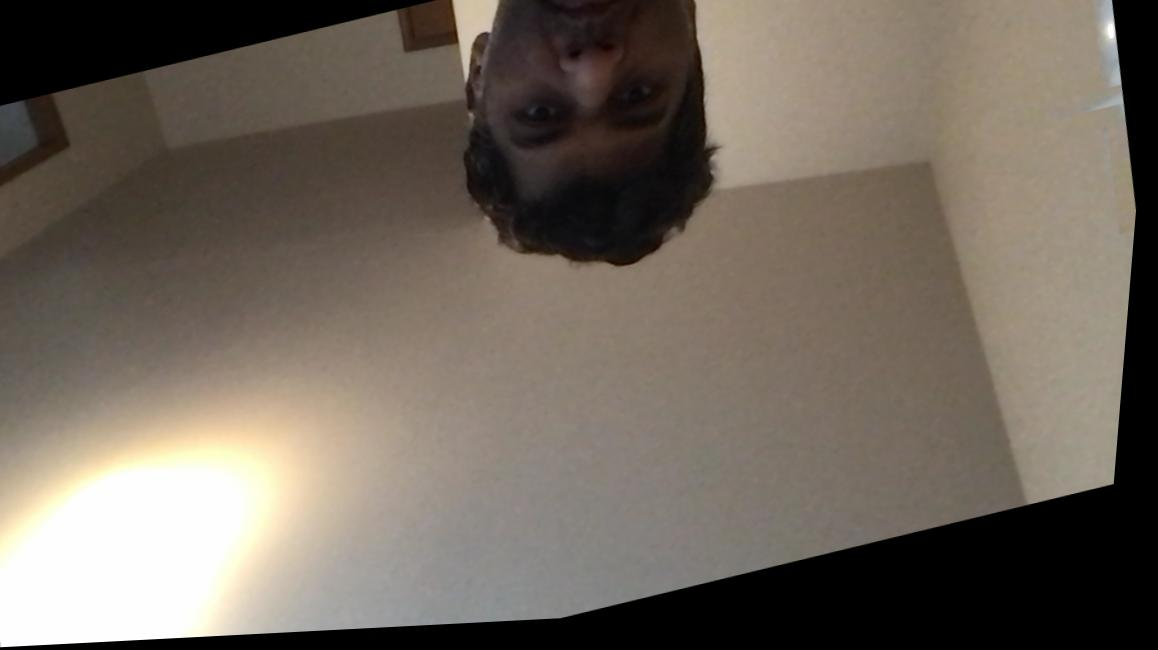Fan: (1021, 31, 1145, 200)
